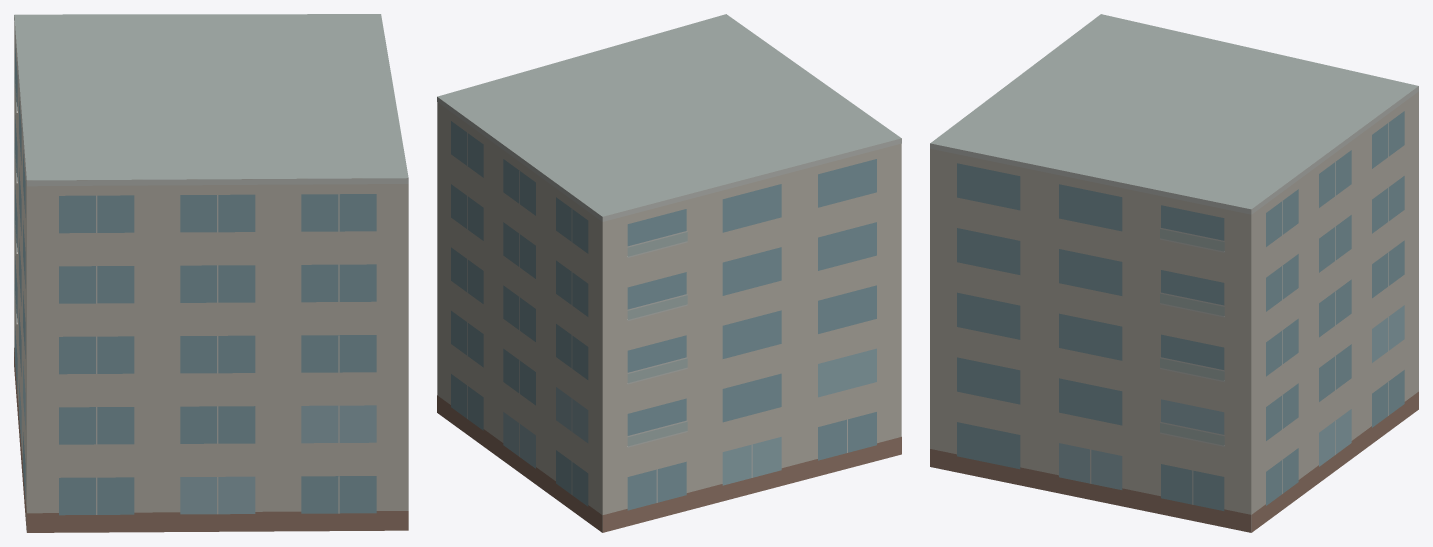
File: survey-upis-32777895.glb
3 renders of one model, left to right at view 1: azimuth 30°, elevation 25°; view 2: azimuth 150°, elevation 25°; view 3: azimuth 270°, elevation 25°, orthographic. The views are drawn at different scales.
Visible parts, largest first — view 1: survey-upis-32777895.tmp; view 2: survey-upis-32777895.tmp; view 3: survey-upis-32777895.tmp.
Part boxes in pixels (x1,y1,x2,y2): survey-upis-32777895.tmp: (14, 14, 408, 532); survey-upis-32777895.tmp: (437, 14, 901, 532); survey-upis-32777895.tmp: (930, 14, 1418, 532).
Bounding box in the file's own units: 19.24 × 14.85 × 20.34.
